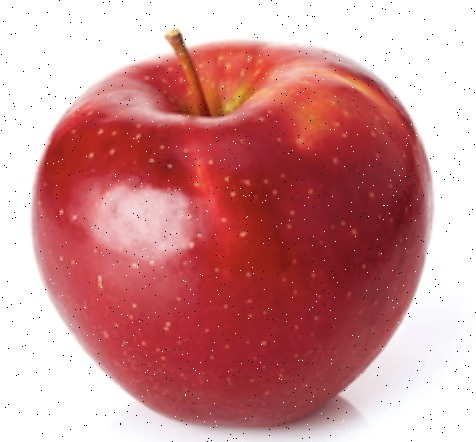fresh_apple: (35, 40, 437, 424)
